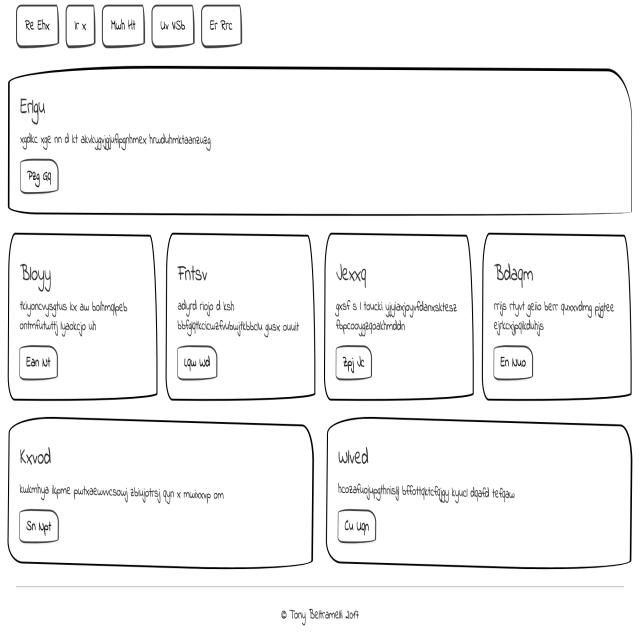Button: (492, 342, 534, 381), (16, 343, 58, 381), (19, 160, 61, 197), (334, 345, 374, 383), (335, 509, 377, 544), (177, 346, 217, 381), (17, 513, 60, 544)
Card: (9, 70, 635, 217), (324, 417, 634, 569), (6, 419, 315, 566), (481, 229, 632, 402), (164, 227, 315, 399), (8, 229, 158, 402), (324, 229, 474, 397)
Footer: (0, 579, 640, 640)
Heading 6: (490, 256, 534, 286), (18, 258, 56, 292), (333, 261, 373, 291), (16, 92, 47, 128), (176, 256, 210, 286), (20, 445, 59, 469), (334, 444, 371, 467)
Navigation Bar: (13, 1, 243, 49)
Paragraph: (19, 128, 218, 156), (15, 478, 236, 503), (176, 296, 301, 340), (492, 297, 616, 341), (336, 479, 518, 507), (15, 294, 134, 335), (331, 297, 462, 333)
